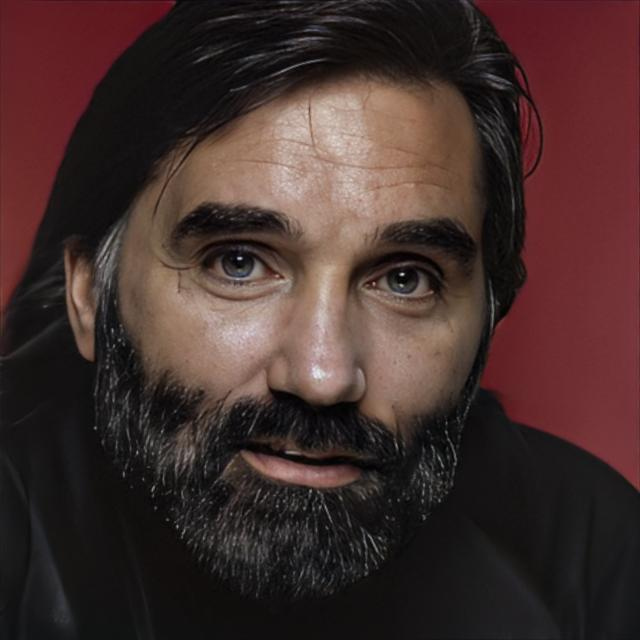content: (119, 66, 492, 602)
